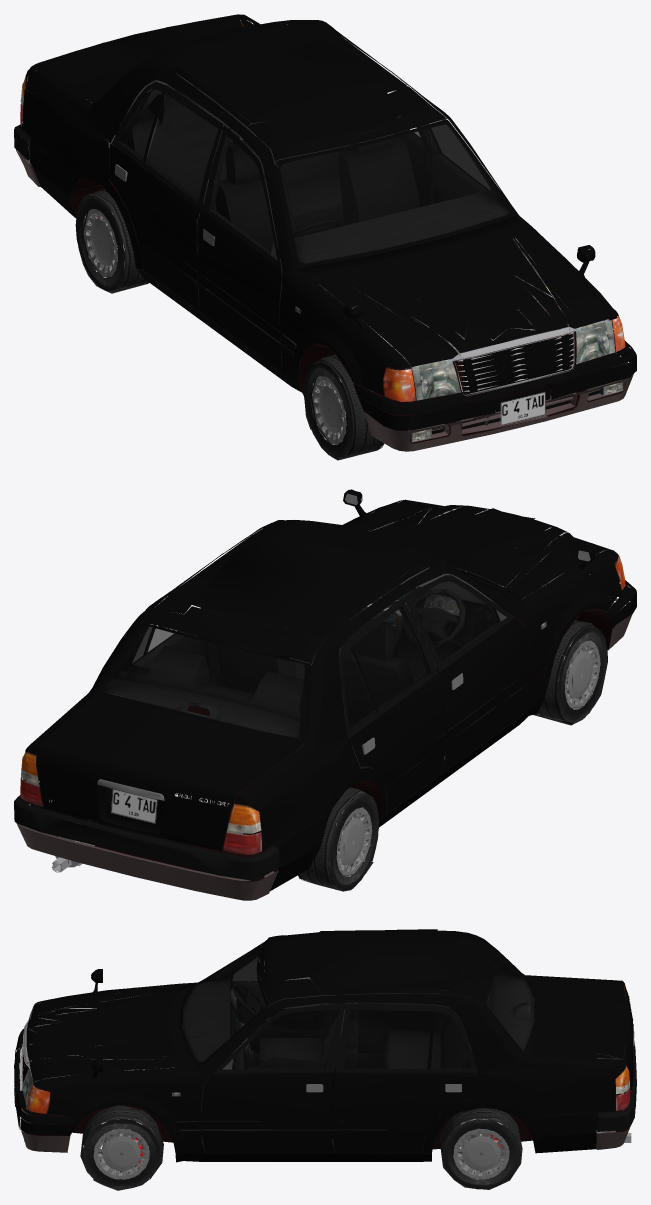
The model's file is t_crown.glb.
3 views of the same model, one above another, from view 1: azimuth 30°, elevation 25°; view 2: azimuth 150°, elevation 25°; view 3: azimuth 270°, elevation 25° (orthographic). The views are drawn at different scales.
Parts seen in each view (by area): view 1: Object_4; view 2: Object_4; view 3: Object_4.
Boxes of the visible parts, left/top/right/bottom form: Object_4: left=14, top=14, right=636, bottom=460; Object_4: left=14, top=489, right=636, bottom=900; Object_4: left=14, top=929, right=636, bottom=1190.
Size of the model in its own units: 1.76 by 1.55 by 4.7.
Materials: 57 (27 with a texture image).
